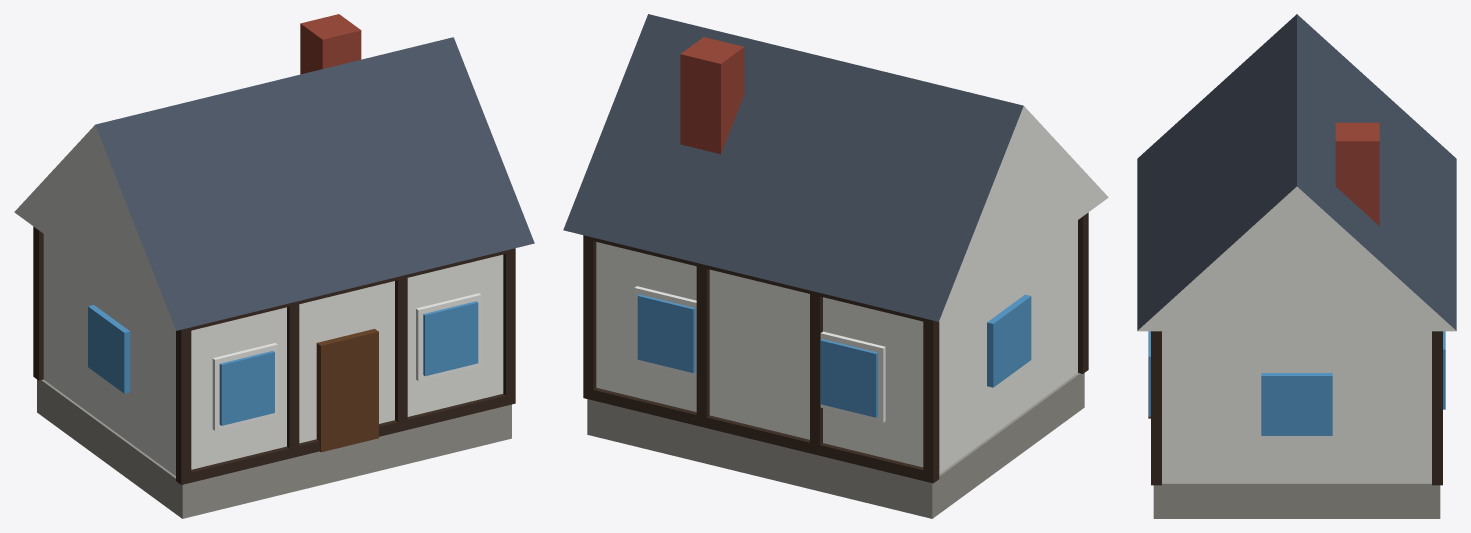
File: 02_german_cottage_2.obj
3 renders of one model, left to right at view 1: azimuth 30°, elevation 25°; view 2: azimuth 150°, elevation 25°; view 3: azimuth 270°, elevation 25°, orthographic. The views are drawn at different scales.
Visible parts, largest first — view 1: 02_german_cottage_2; view 2: 02_german_cottage_2; view 3: 02_german_cottage_2.
Boxes of the visible parts, left/top/right/bottom form: 02_german_cottage_2: left=14, top=14, right=534, bottom=518; 02_german_cottage_2: left=563, top=14, right=1108, bottom=518; 02_german_cottage_2: left=1137, top=14, right=1456, bottom=518.
Bounding box in the file's own units: 1.48 × 1.4 × 1.16.
